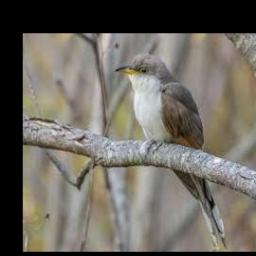Cuckoo: (114, 54, 228, 249)
